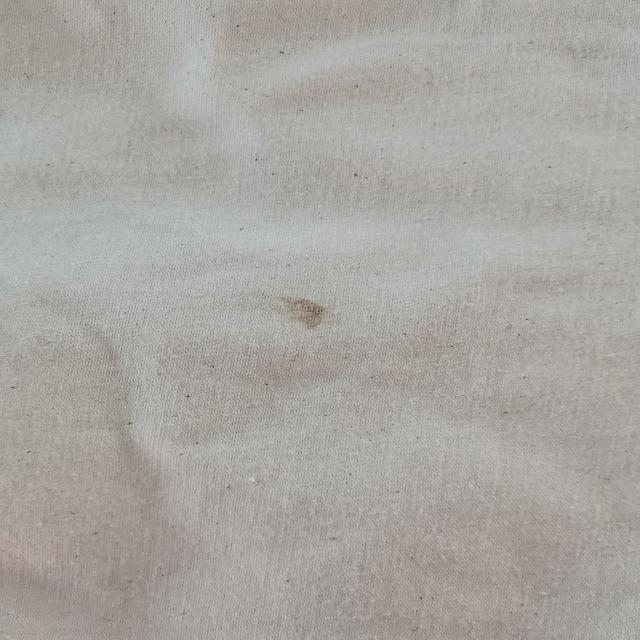taaaches: (239, 282, 359, 338)
